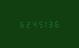five: (35, 20, 40, 27)
four: (29, 20, 34, 28)
one: (41, 19, 46, 27)
six: (17, 20, 22, 28), (53, 19, 58, 27)
three: (47, 19, 52, 27)
two: (23, 20, 28, 28)
